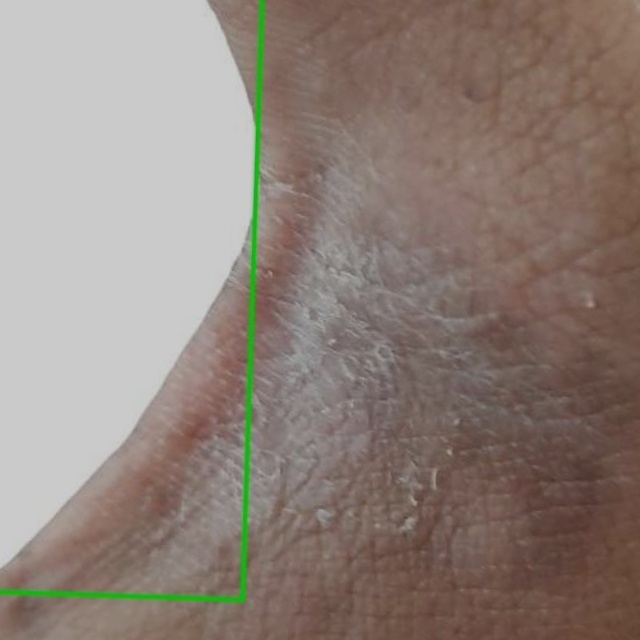Scabies: (0, 0, 261, 599)
